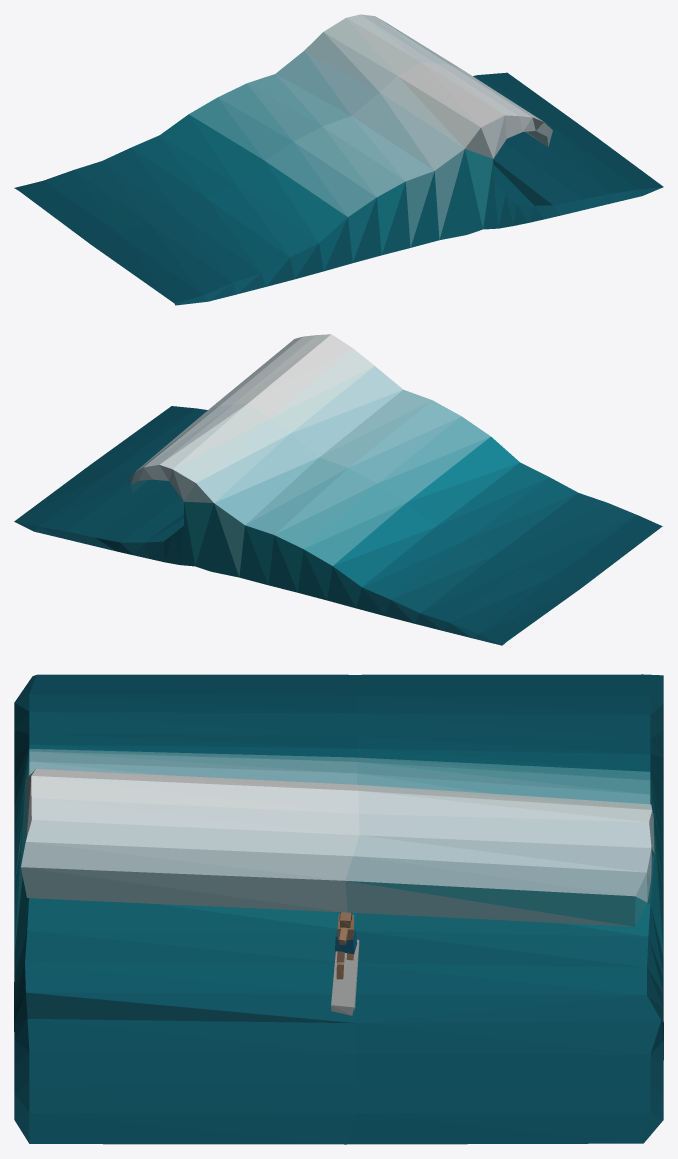
Rendered from wave-surfer.glb.
3 renders of one model, top to bottom at view 1: azimuth 30°, elevation 25°; view 2: azimuth 150°, elevation 25°; view 3: azimuth 270°, elevation 25°, orthographic. The views are drawn at different scales.
Parts seen in each view (by area): view 1: Wave_Surfer; view 2: Wave_Surfer; view 3: Wave_Surfer.
Part boxes in pixels (x1,y1,x2,y2): Wave_Surfer: [14, 14, 663, 305]; Wave_Surfer: [14, 334, 662, 645]; Wave_Surfer: [14, 674, 663, 1144].
Size of the model in its own units: 1.99 by 0.4276 by 1.16.
